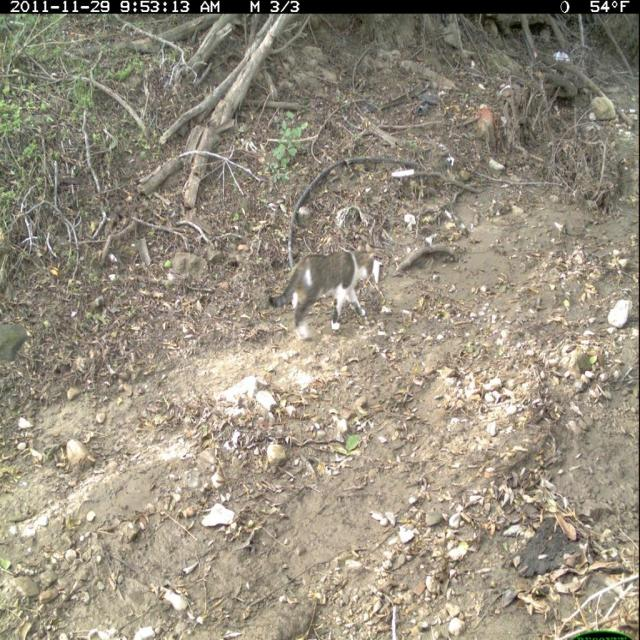cat: (267, 241, 380, 344)
